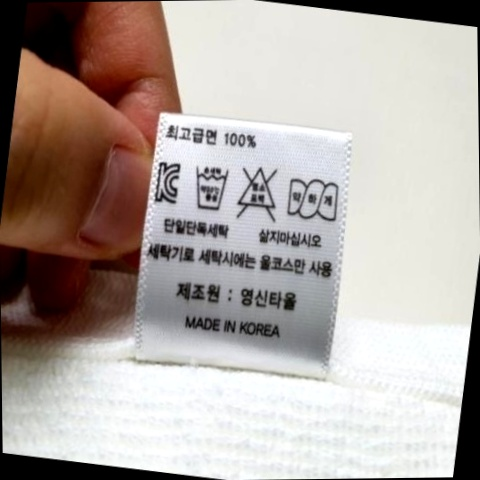hand_wash: (188, 163, 236, 217)
non_chlorine_bleach: (233, 159, 286, 226)
wring: (282, 175, 342, 225)
